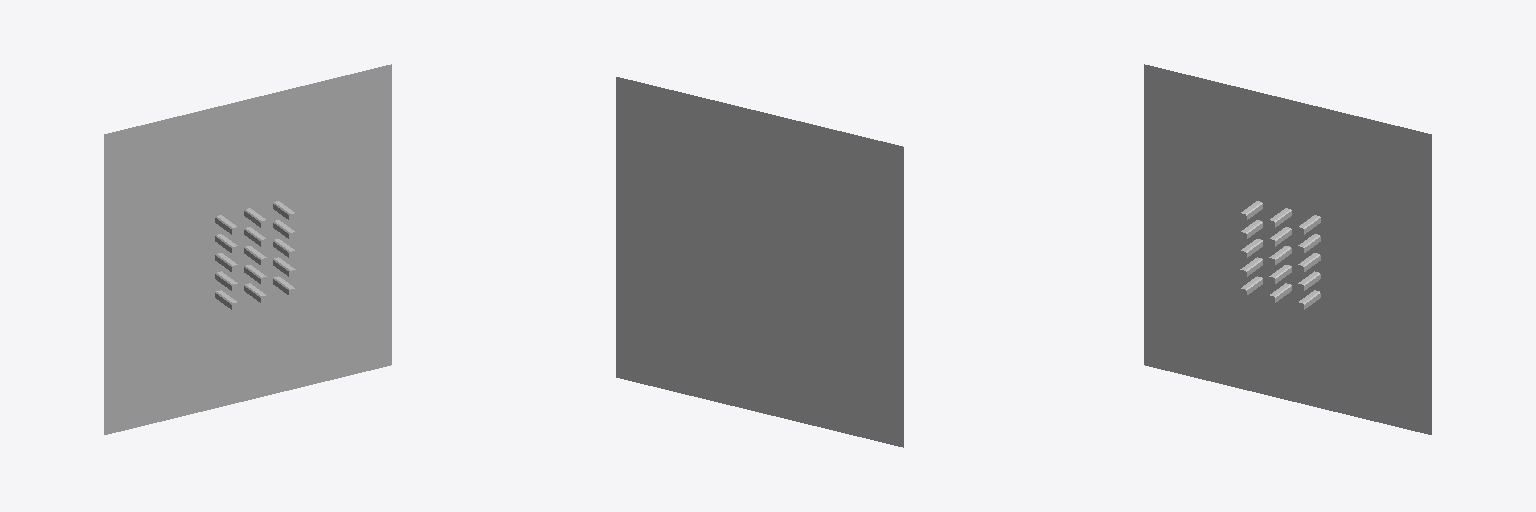
The model's file is shadow_scene_1.obj.
3 views of the same model, side by side, from view 1: azimuth 30°, elevation 25°; view 2: azimuth 150°, elevation 25°; view 3: azimuth 330°, elevation 25° (orthographic).
Bounding box in the file's own units: 20 × 20 × 2.